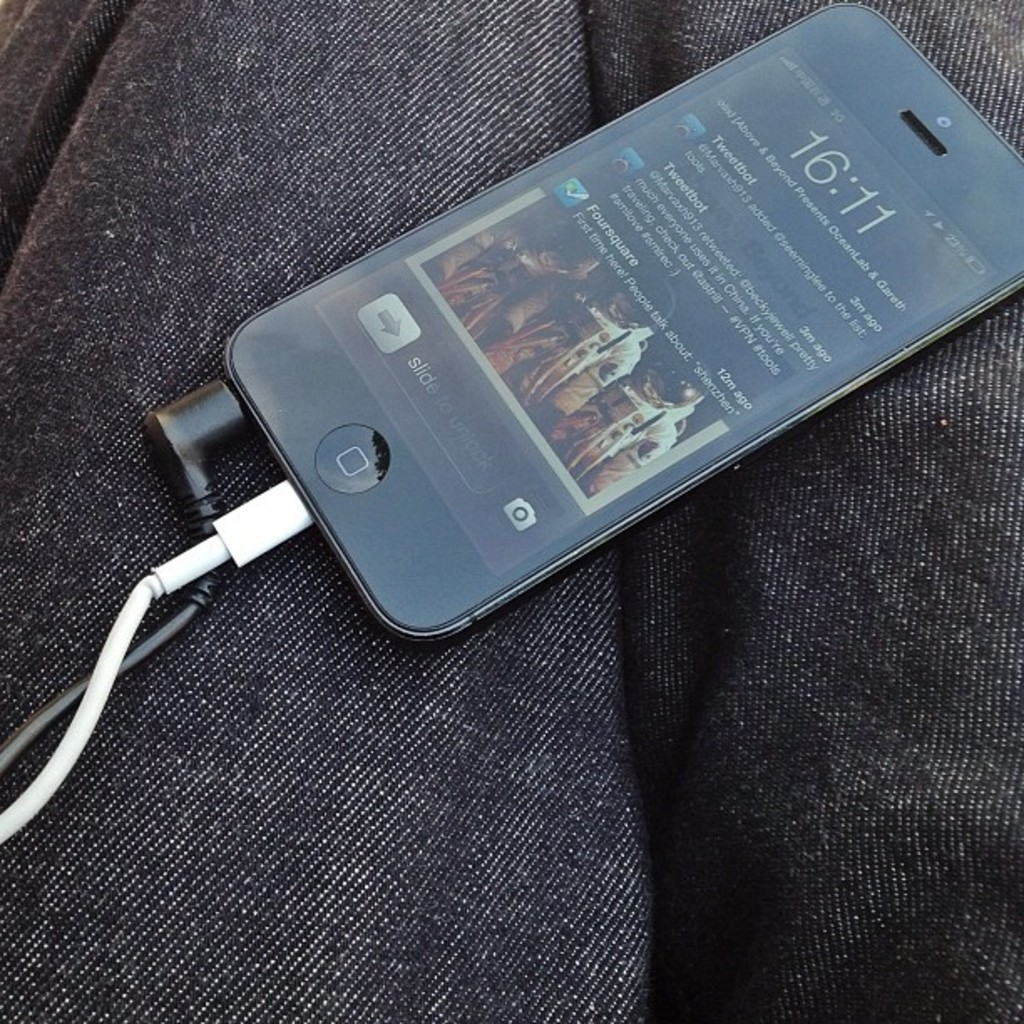Mobile-phone: (231, 0, 1024, 643)
